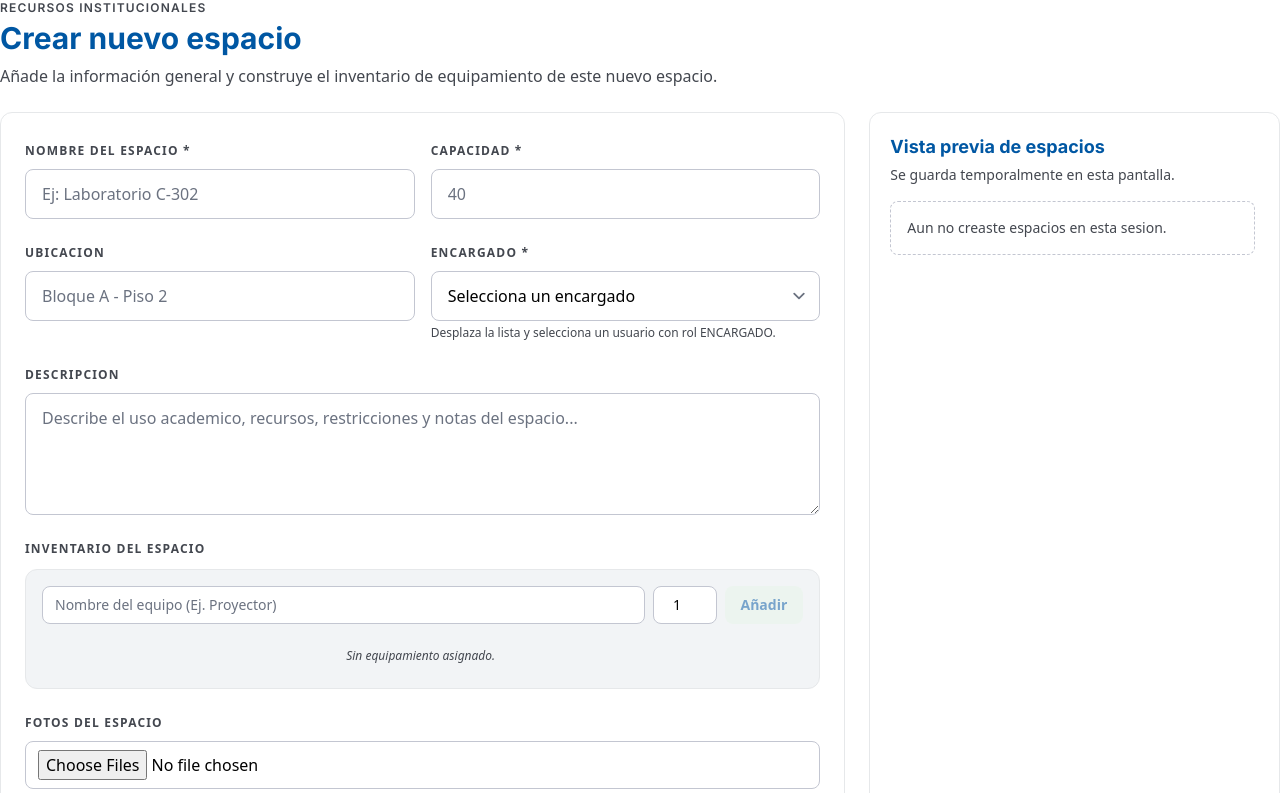
AdminCreateSpaceView Component › debería fallar al enviar el formulario si no hay sesión activa
Rellenar formulario
Type "Laboratorio X" into the field with test id "create-space-name". click: (220, 194)
box: [25,169,415,219]
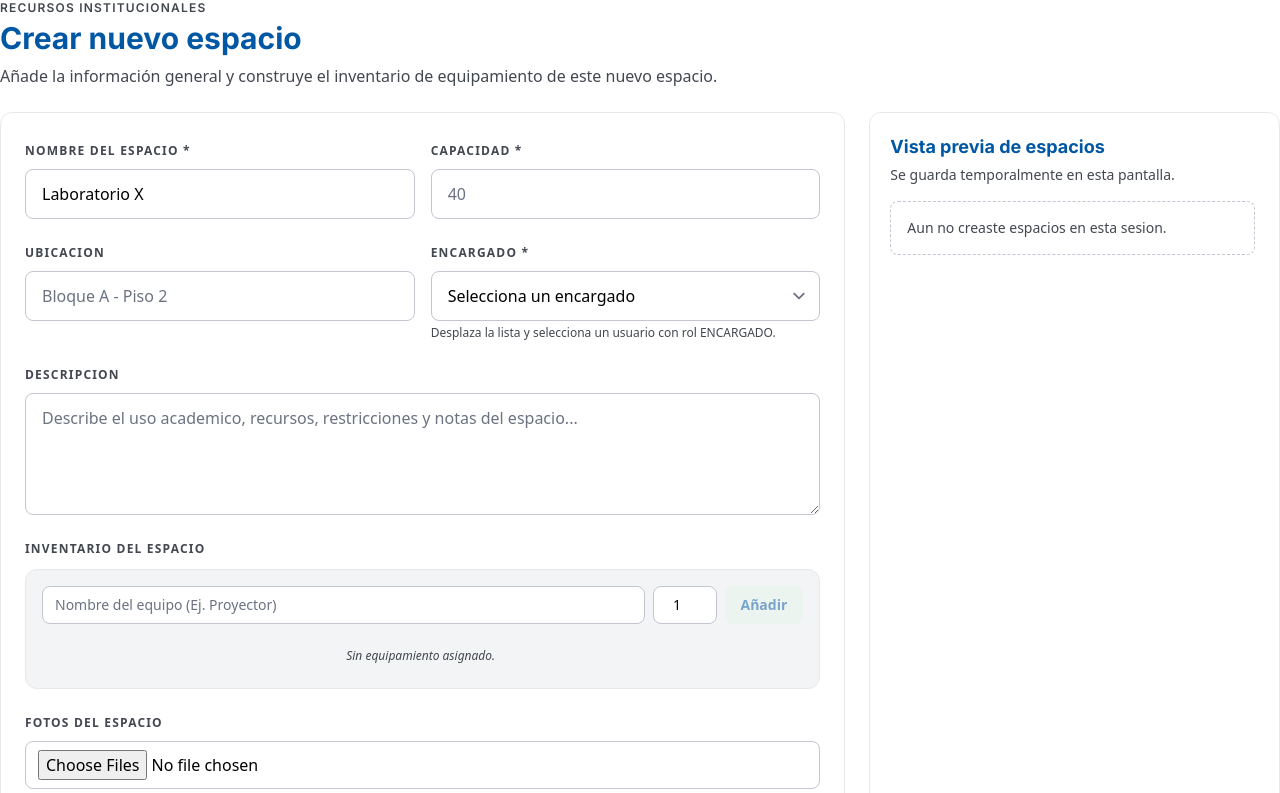
Type "50" into the number field with test id "create-space-capacity". click: (626, 194)
box: [431,169,820,219]
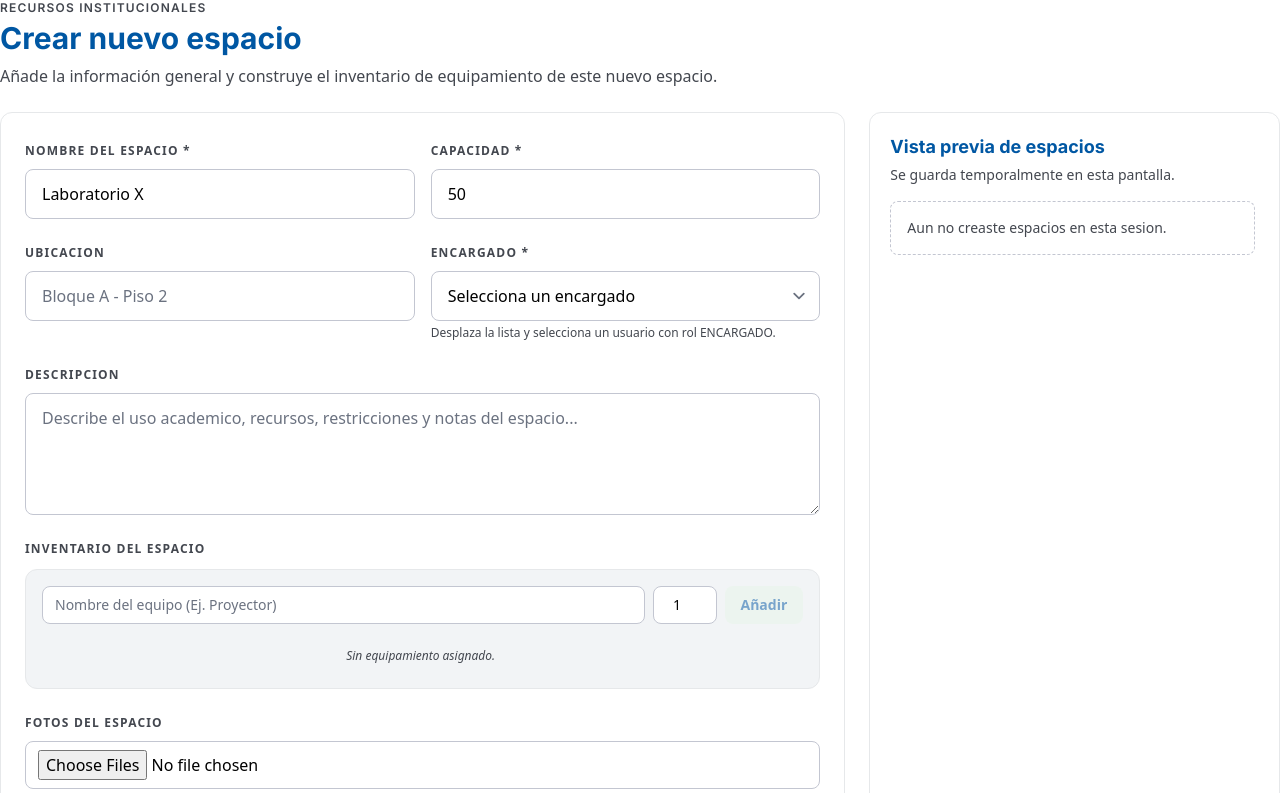
Select "Encargado Carlos" in the dropdown with test id "create-space-userInCharge". click: (626, 296)
box: [431,271,820,321]
(page scrolled)
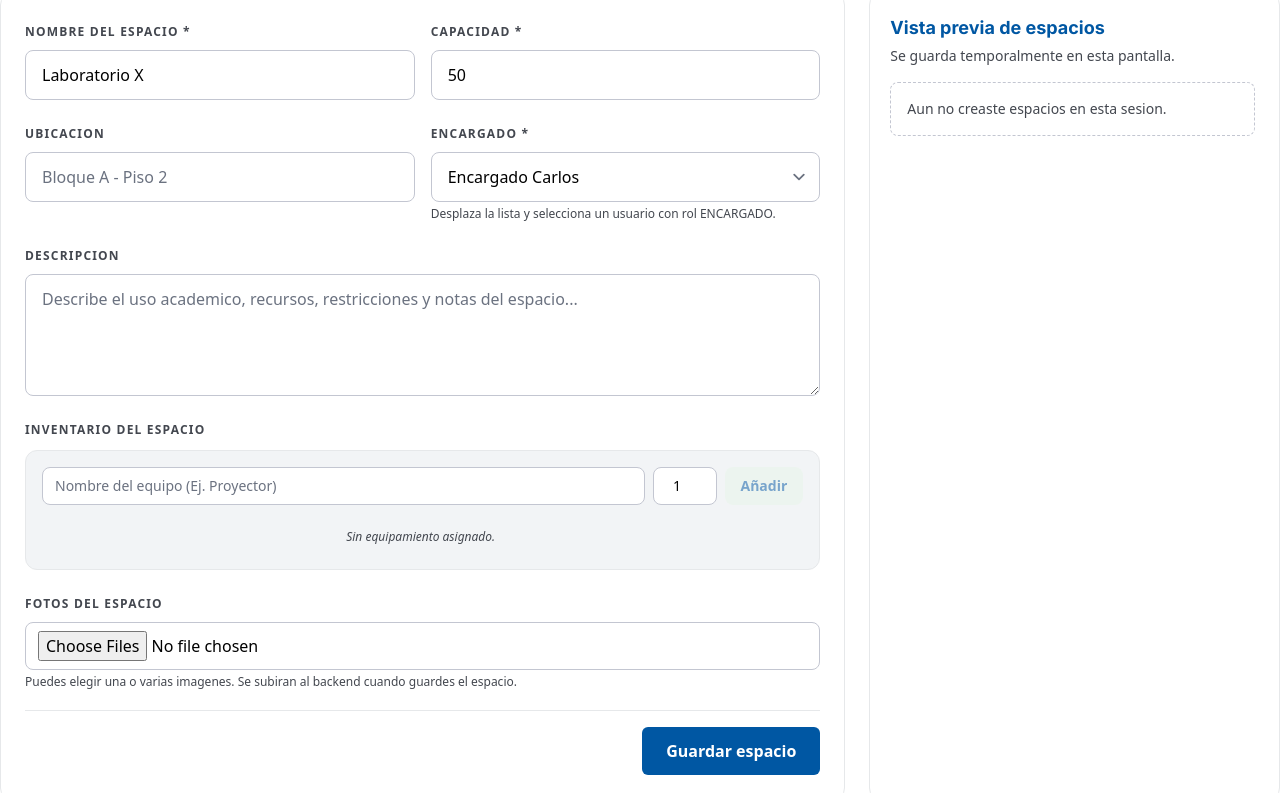
Click the button with test id "create-space-submit-button". click: (731, 751)
box: [642,727,820,775]
(page scrolled)
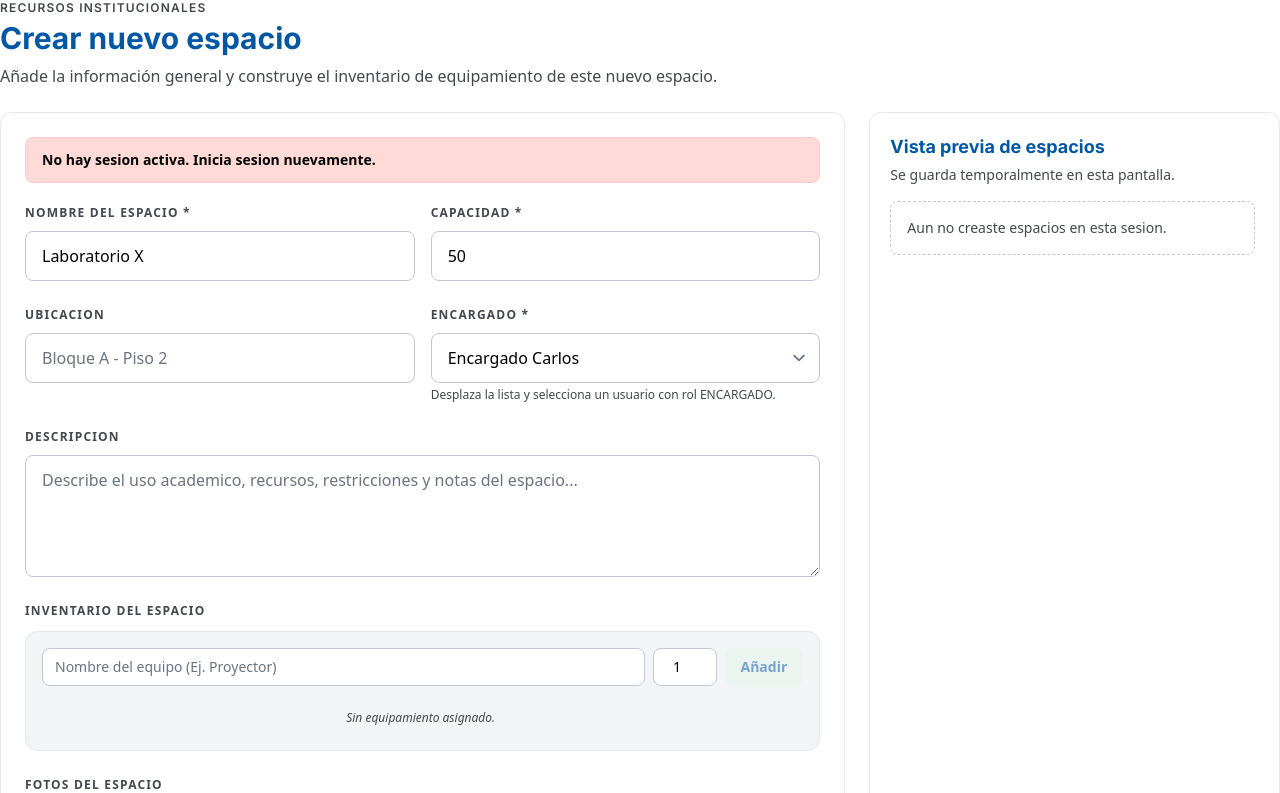
Expected: the text "No hay sesion activa. Inicia sesion nuevamente." is shown, [25,137,820,183]
